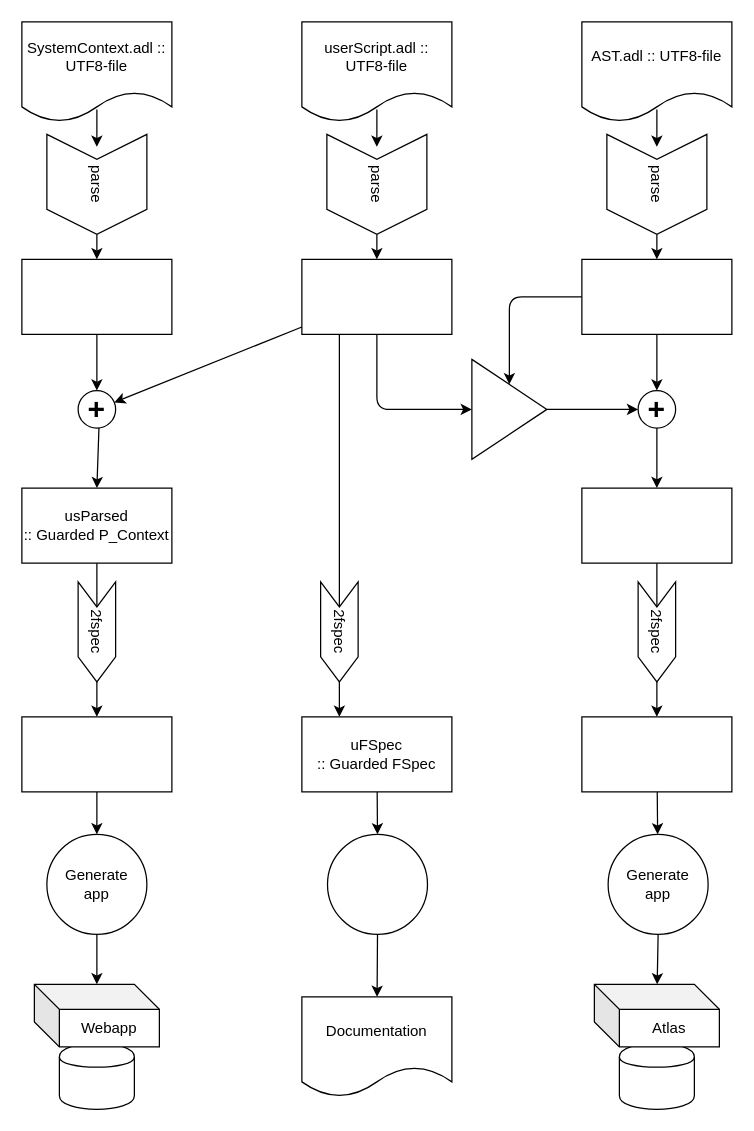
Image size: 754x1131. Some labels were removed from this diagram. Each missing label, with the box of its shape:
atlasCtx :: Guarded P_Context: (581, 487, 732, 563)
atlasFSpec :: Guarded FSpec: (581, 716, 732, 792)
fParsed :: Guarded P_Context: (581, 258, 732, 334)
Generate doc: (326, 833, 428, 934)
grind: (471, 358, 547, 459)
sParsed :: Guarded P_Context: (21, 258, 172, 334)
uParsed :: Guarded P_Context: (301, 258, 452, 334)
usFSpec :: Guarded FSpec: (21, 716, 172, 792)
